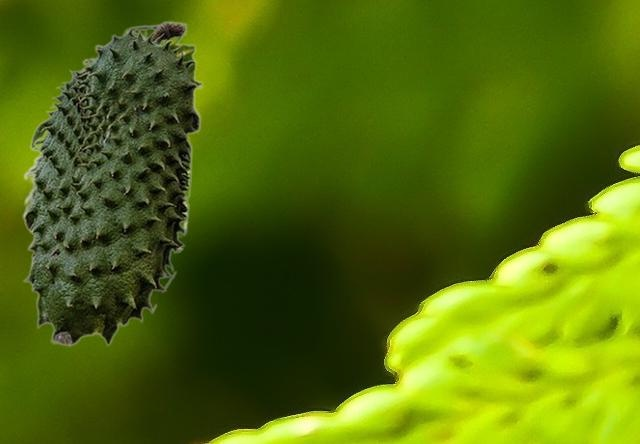guyabano: (21, 20, 202, 346)
